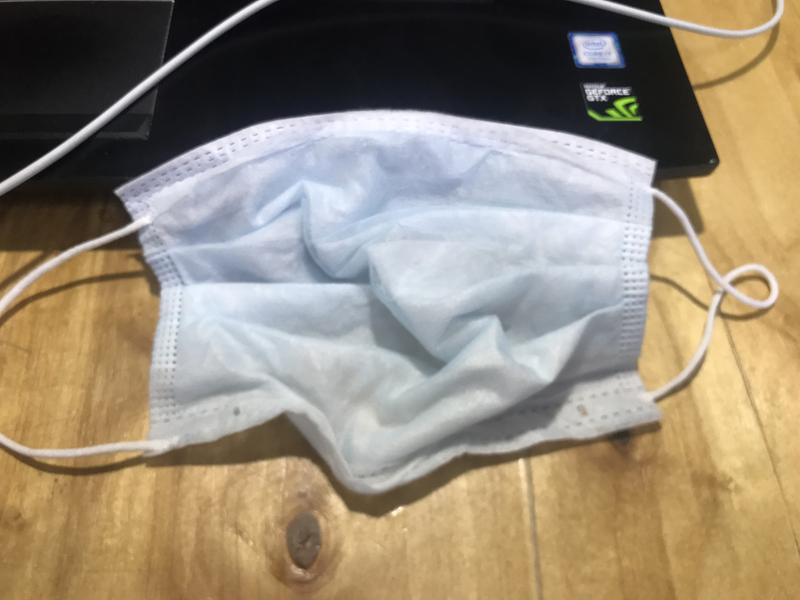medical_mask: (5, 111, 778, 493)
